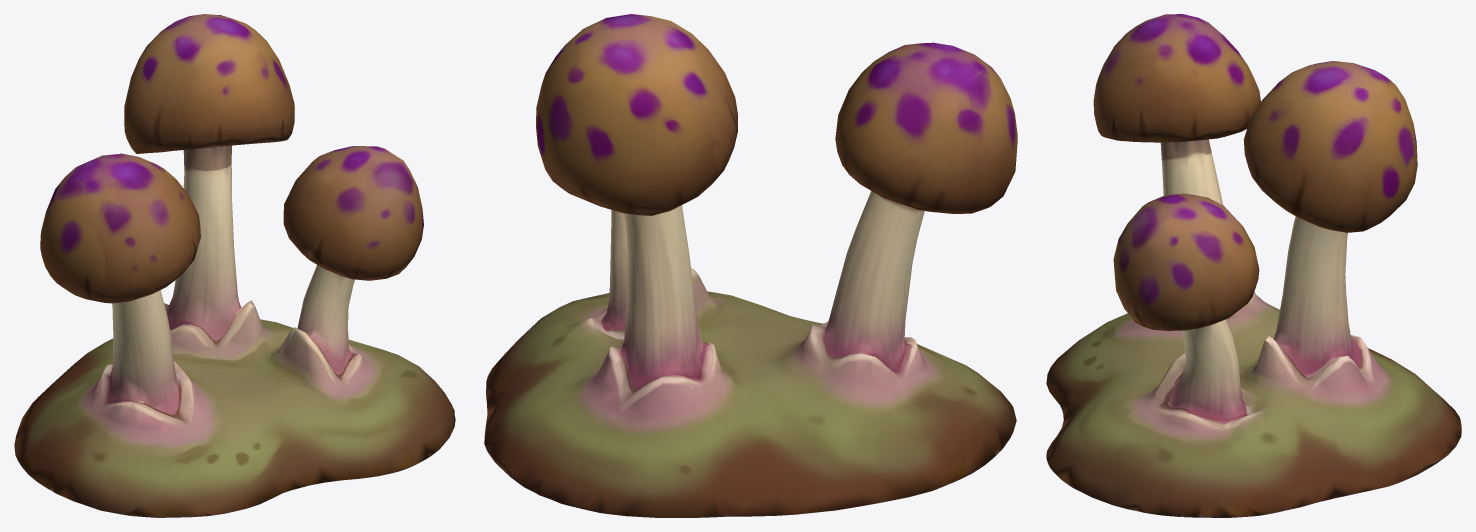
3 views of the same model, side by side, from view 1: azimuth 30°, elevation 25°; view 2: azimuth 150°, elevation 25°; view 3: azimuth 270°, elevation 25° (orthographic). The views are drawn at different scales.
Visible parts, largest first — view 1: Mesh_0; view 2: Mesh_0; view 3: Mesh_0.
Boxes of the visible parts, x1=… form: Mesh_0: x1=14, y1=14, x2=455, y2=517; Mesh_0: x1=484, y1=14, x2=1017, y2=517; Mesh_0: x1=1046, y1=14, x2=1461, y2=517.
Size of the model in its own units: 1.91 by 1.64 by 1.68.
1 material, 1 textured.
